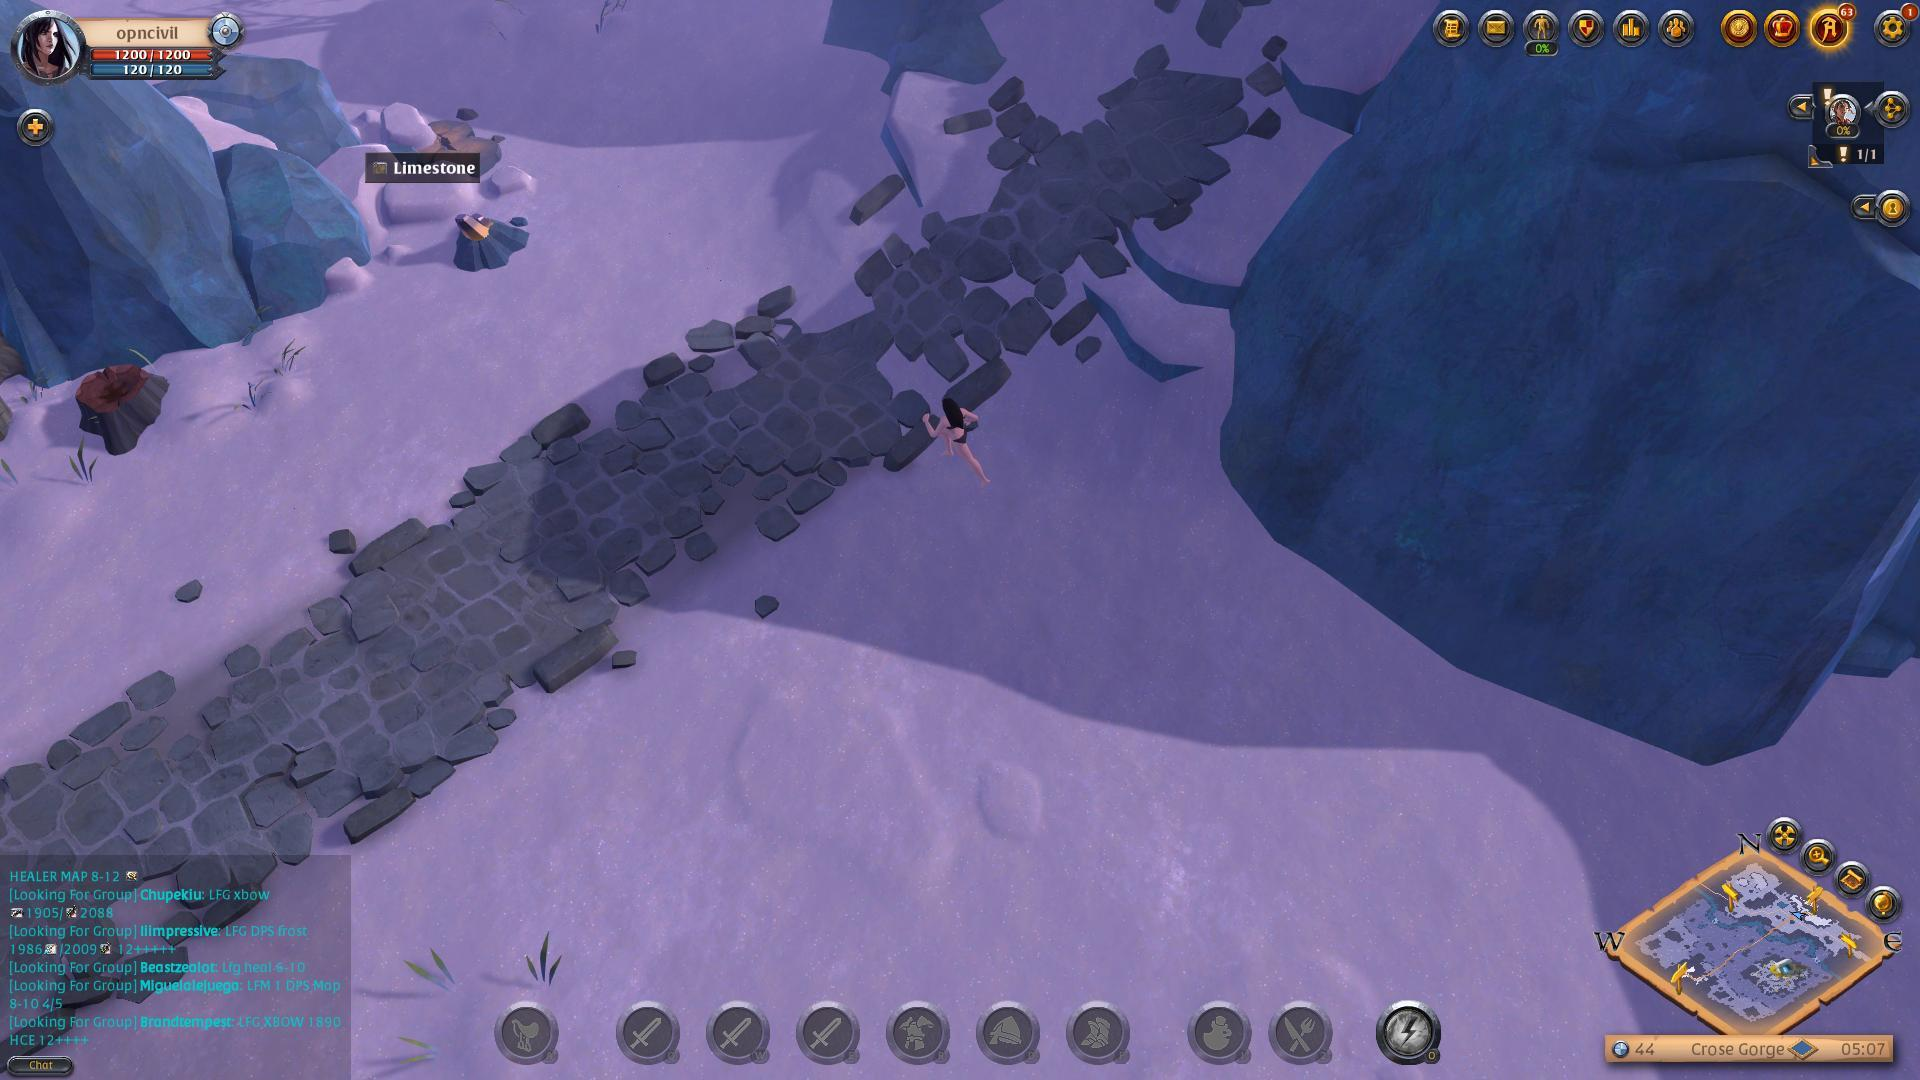copper_ore: (434, 195, 543, 284)
